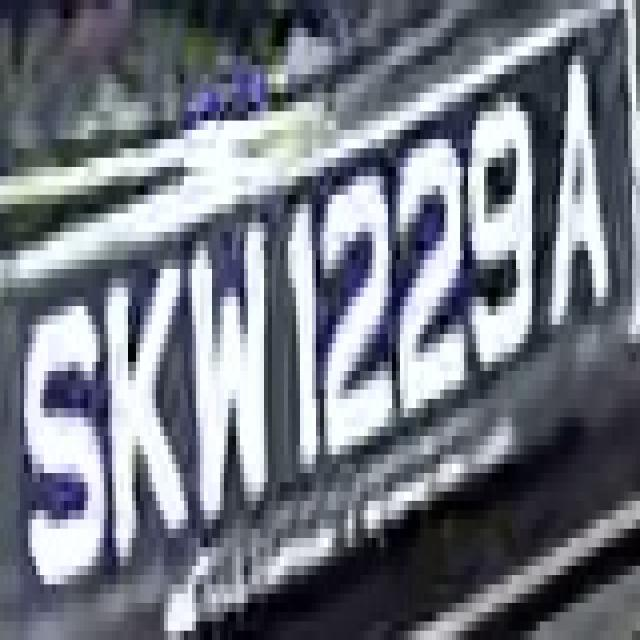1: (280, 185, 324, 538)
2: (384, 102, 480, 455), (312, 158, 400, 473)
9: (456, 65, 548, 389)
A: (544, 74, 620, 343)
K: (100, 250, 196, 548)
S: (8, 278, 108, 594)
W: (176, 176, 280, 529)
